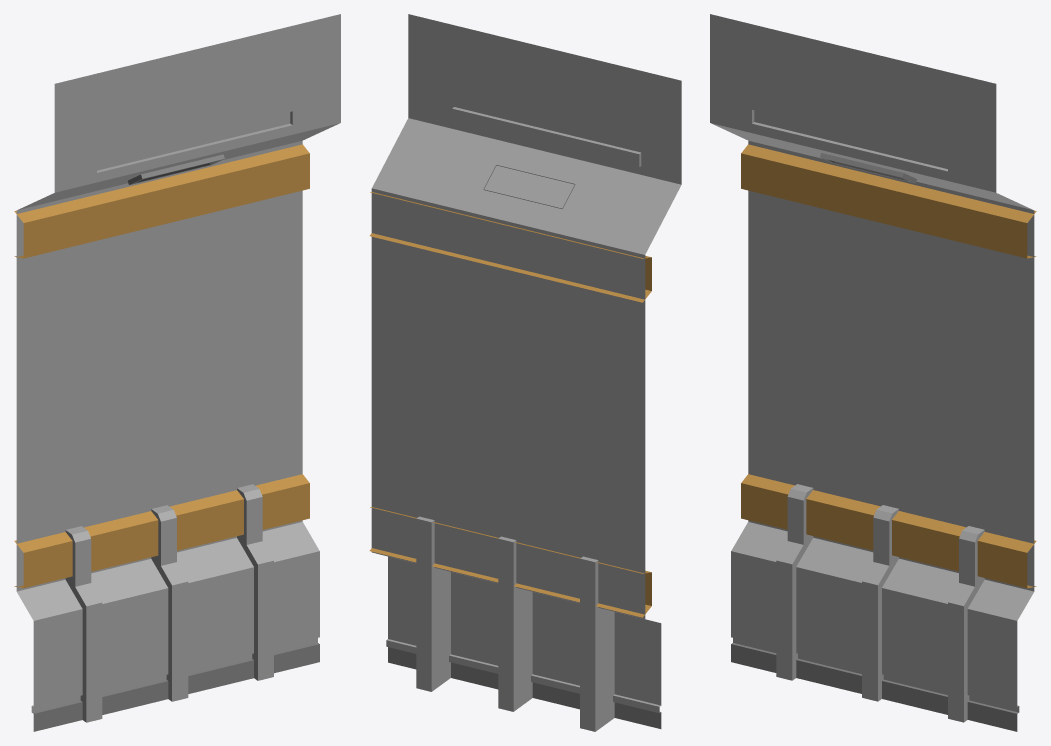
The model's file is WallBasic.fbx.
3 renders of one model, left to right at view 1: azimuth 30°, elevation 25°; view 2: azimuth 150°, elevation 25°; view 3: azimuth 330°, elevation 25°, orthographic. The views are drawn at different scales.
Visible parts, largest first — view 1: Wall_Empty; view 2: Wall_Empty; view 3: Wall_Empty.
Part boxes in pixels (<box>): Wall_Empty: <box>14,14,340,731</box>; Wall_Empty: <box>369,14,681,731</box>; Wall_Empty: <box>710,14,1036,731</box>.
Size of the model in its own units: 2 by 4.43 by 0.4991.
